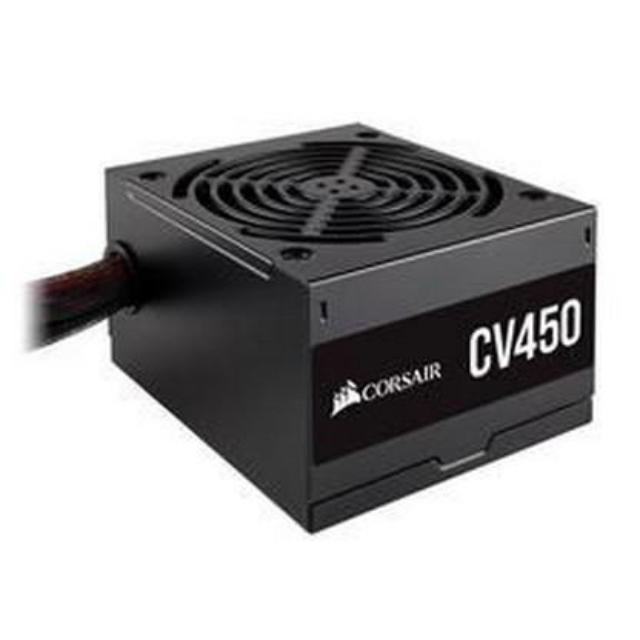PSU: (89, 114, 606, 536)
